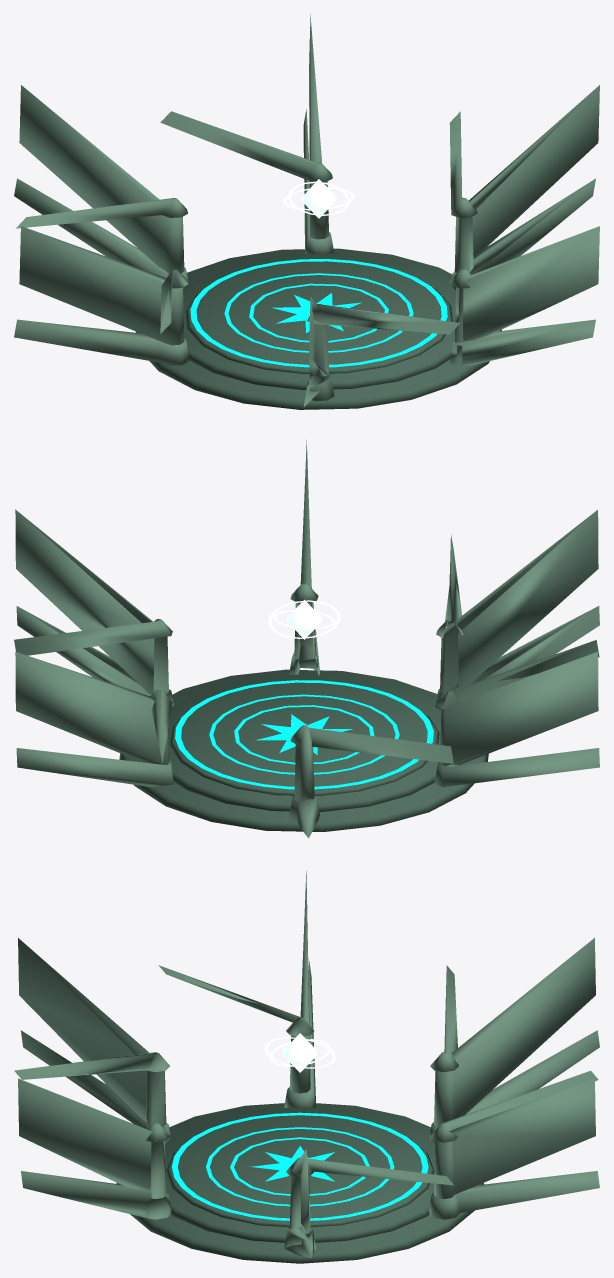
The model's file is Sanctum_Tier3_Esmeralda_Combined.fbx.
3 renders of one model, top to bottom at view 1: azimuth 30°, elevation 25°; view 2: azimuth 150°, elevation 25°; view 3: azimuth 270°, elevation 25°, orthographic.
Visible parts, largest first — view 1: Sanctum_Tier3_Esmeralda_Combined; view 2: Sanctum_Tier3_Esmeralda_Combined; view 3: Sanctum_Tier3_Esmeralda_Combined.
Part boxes in pixels (x1,y1,x2,y2): Sanctum_Tier3_Esmeralda_Combined: (14,14,599,409); Sanctum_Tier3_Esmeralda_Combined: (14,440,599,838); Sanctum_Tier3_Esmeralda_Combined: (14,871,599,1263).
Size of the model in its own units: 16.73 by 4.82 by 14.6.
